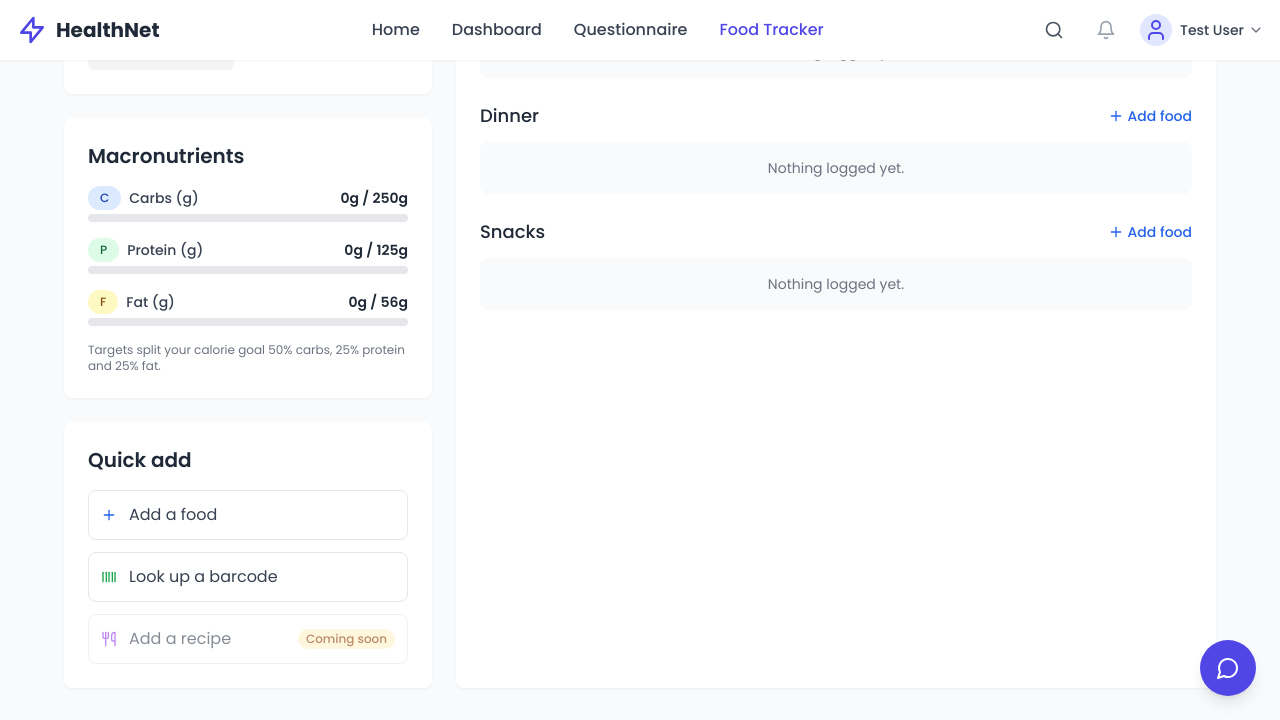
Test: unknown barcodes and busy food search are explained
(page scrolled)
Click the button "Look up a barcode". click: (248, 577)
box: top-left (88, 552), bottom-right (408, 602)
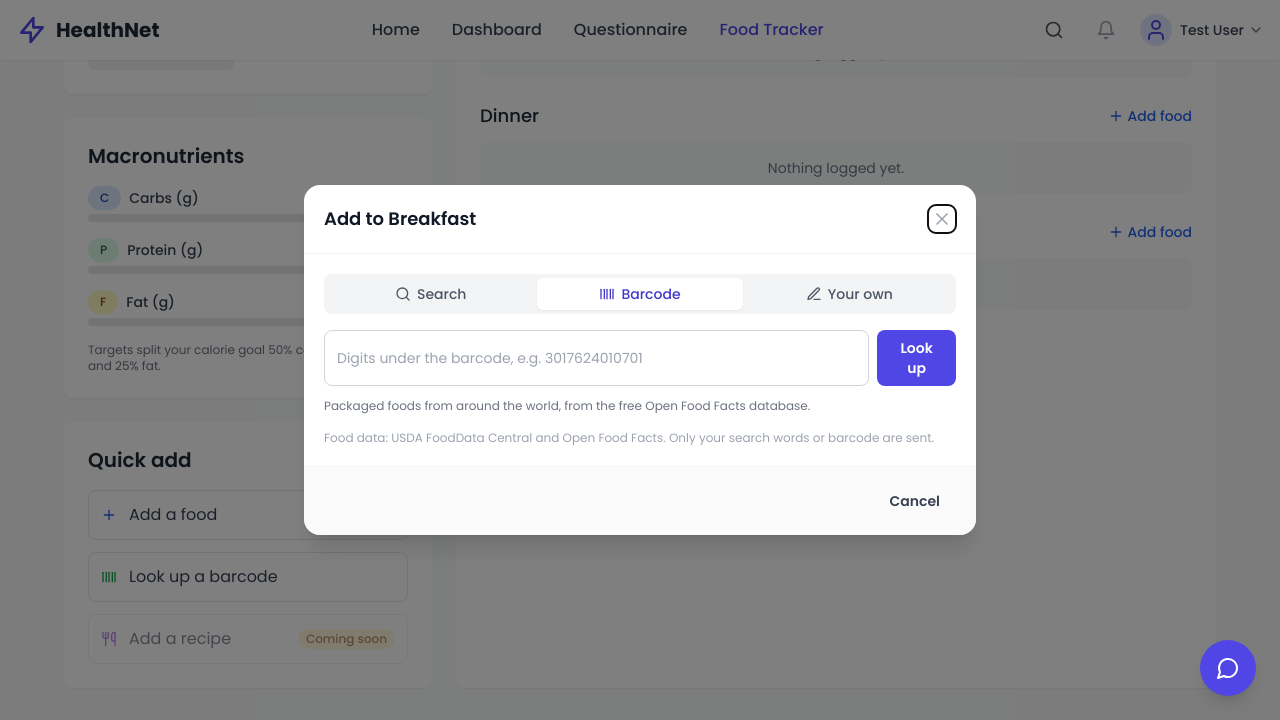
Type "12345678" into the field named "Barcode number". click: (597, 358)
box: top-left (324, 330), bottom-right (869, 386)
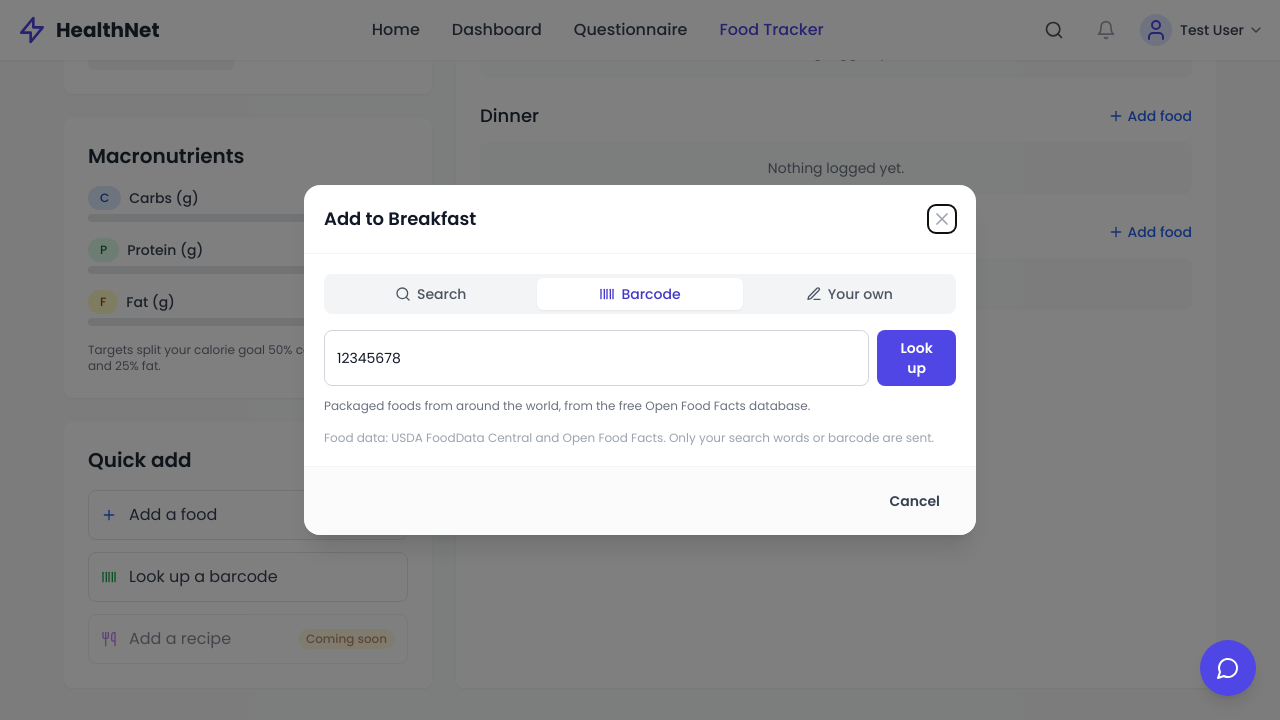
Click the button "Look up". click: (917, 358)
box: top-left (877, 330), bottom-right (956, 386)
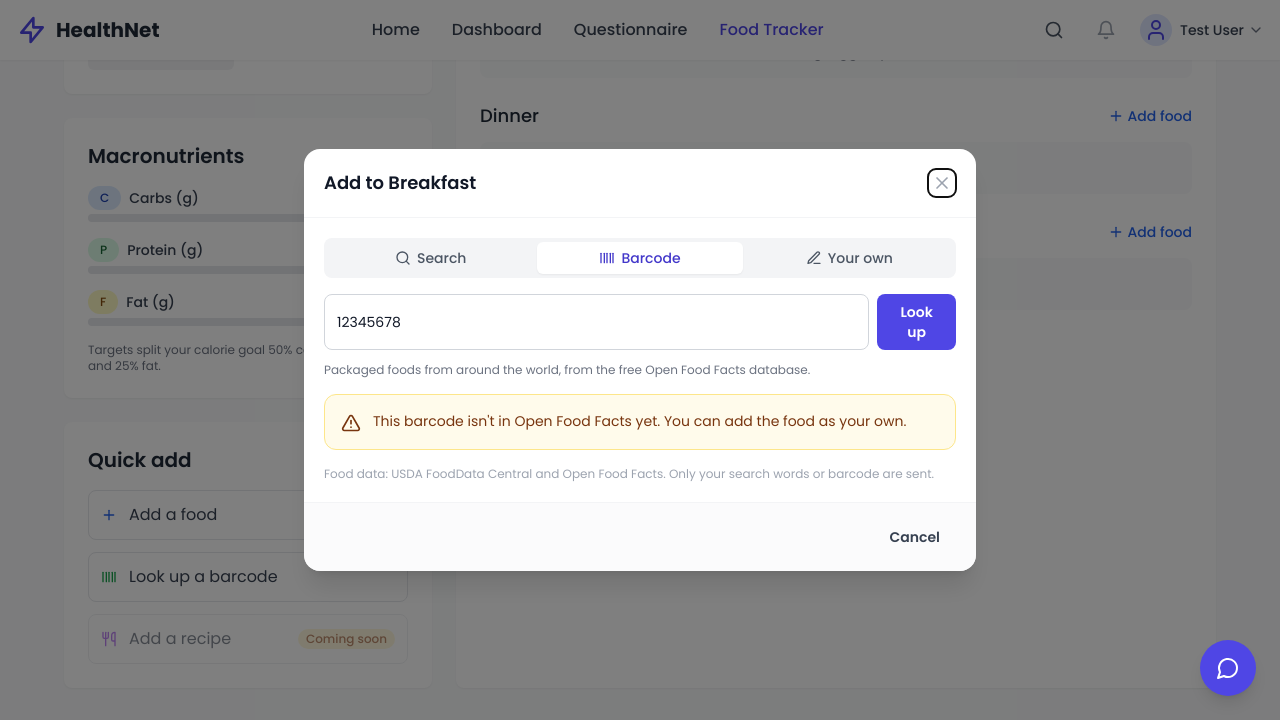
Expected: the text "in Open Food Facts yet" is shown, top-left (373, 411), bottom-right (906, 431)
Click the tab "Search". click: (431, 258)
box: top-left (328, 242), bottom-right (533, 274)
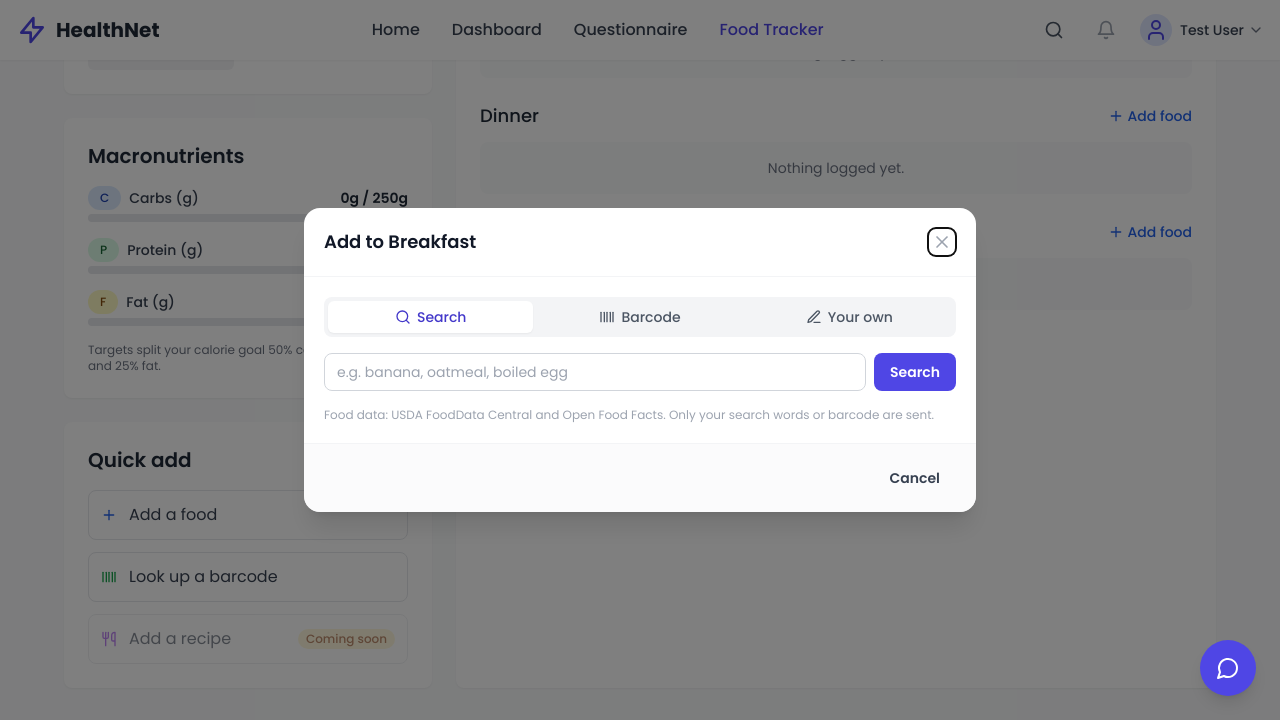
Type "rice" into the field named "Search foods". click: (595, 372)
box: top-left (324, 353), bottom-right (866, 391)
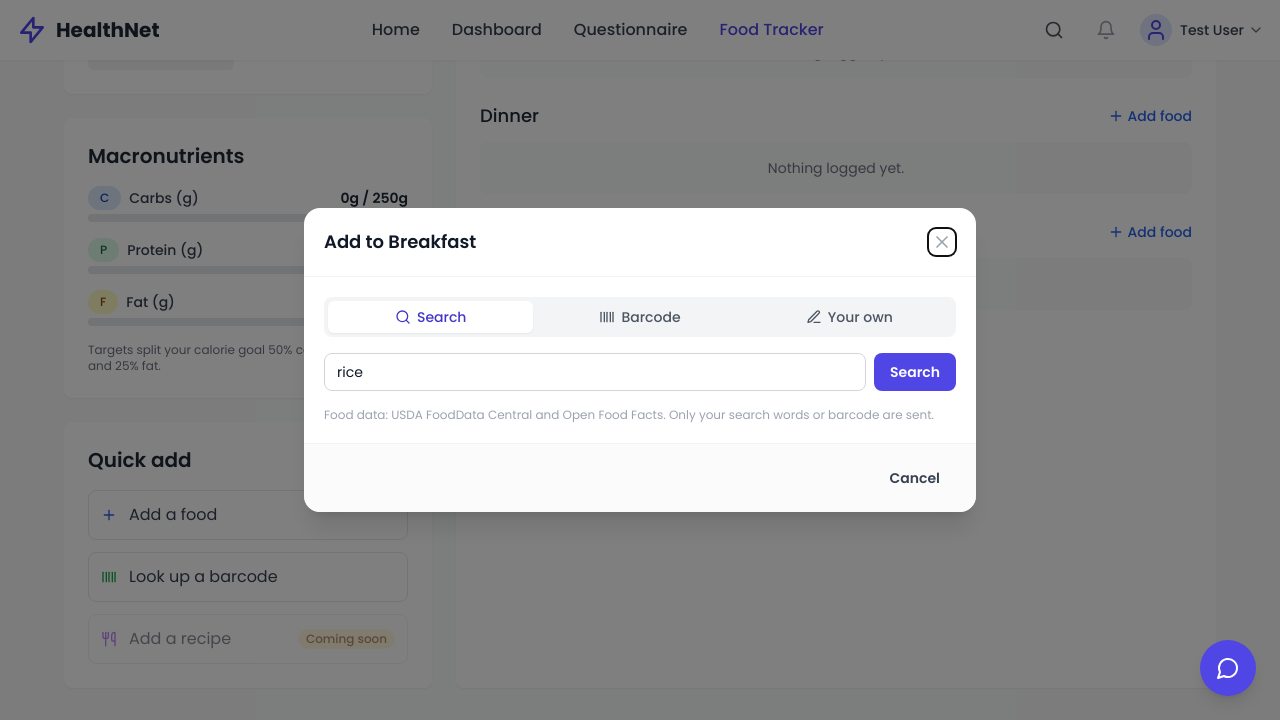
Click the button "Search". click: (915, 372)
box: top-left (874, 353), bottom-right (956, 391)
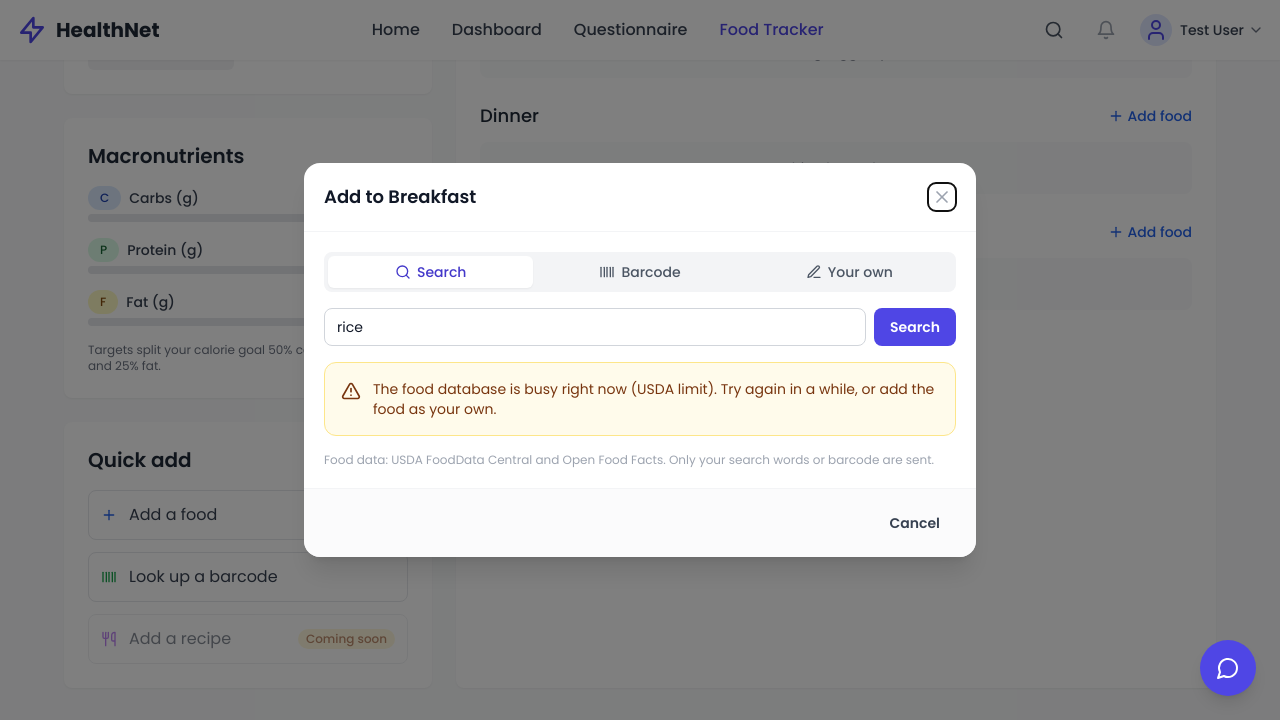
Expected: the text "The food database is busy" is shown, top-left (373, 379), bottom-right (934, 419)
